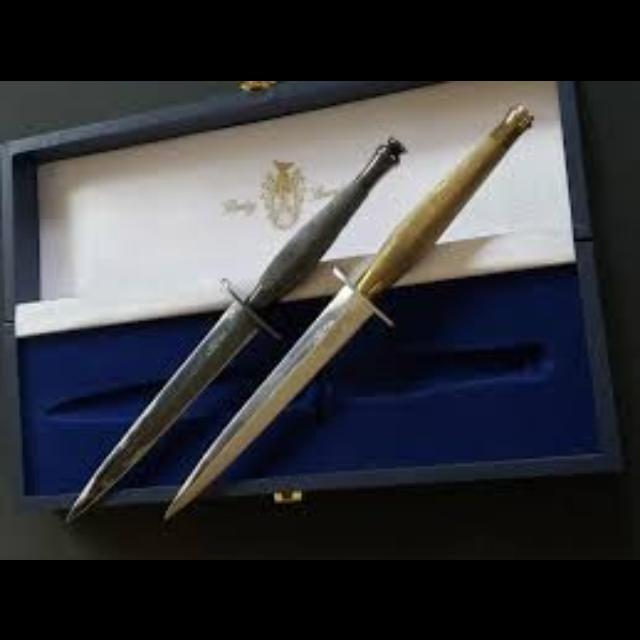knife: (161, 100, 534, 520), (62, 132, 406, 522)
